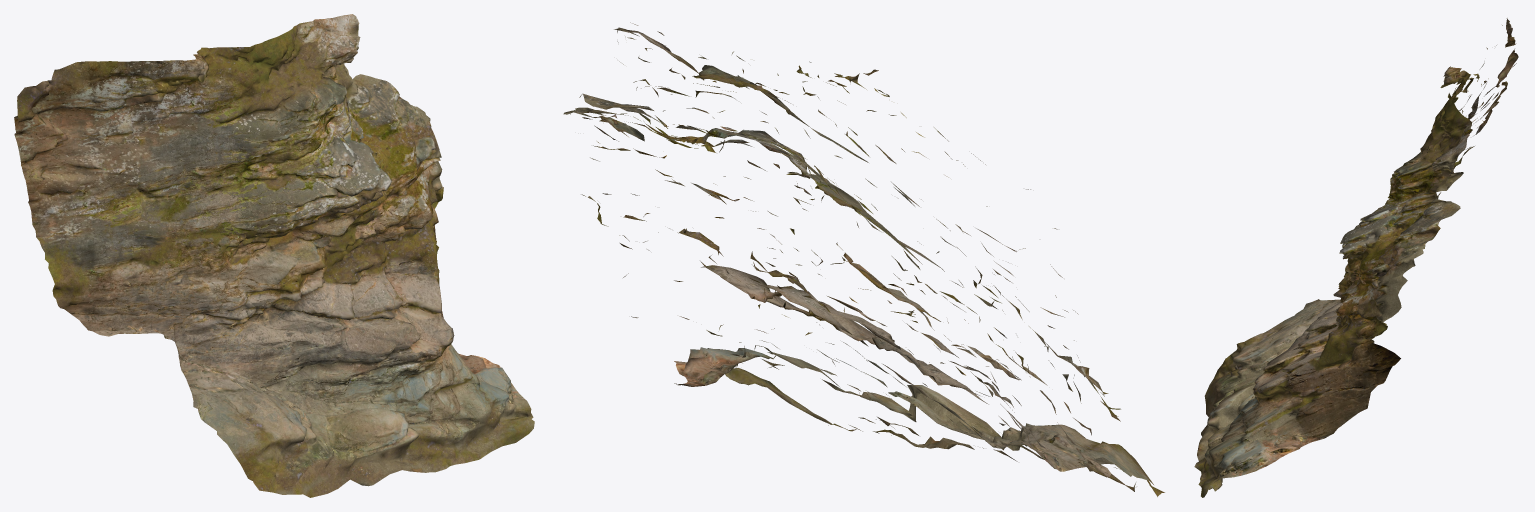
3 views of the same model, side by side, from view 1: azimuth 30°, elevation 25°; view 2: azimuth 150°, elevation 25°; view 3: azimuth 270°, elevation 25° (orthographic). The views are drawn at different scales.
Parts seen in each view (by area): view 1: rock_face_02_lod0; view 2: rock_face_02_lod0; view 3: rock_face_02_lod0.
Part boxes in pixels (<box>): rock_face_02_lod0: <box>14,14,534,497</box>; rock_face_02_lod0: <box>563,22,1164,496</box>; rock_face_02_lod0: <box>1194,18,1518,497</box>.
Bounding box in the file's own units: 2.71 × 2.47 × 2.13.
1 material, 1 textured.
